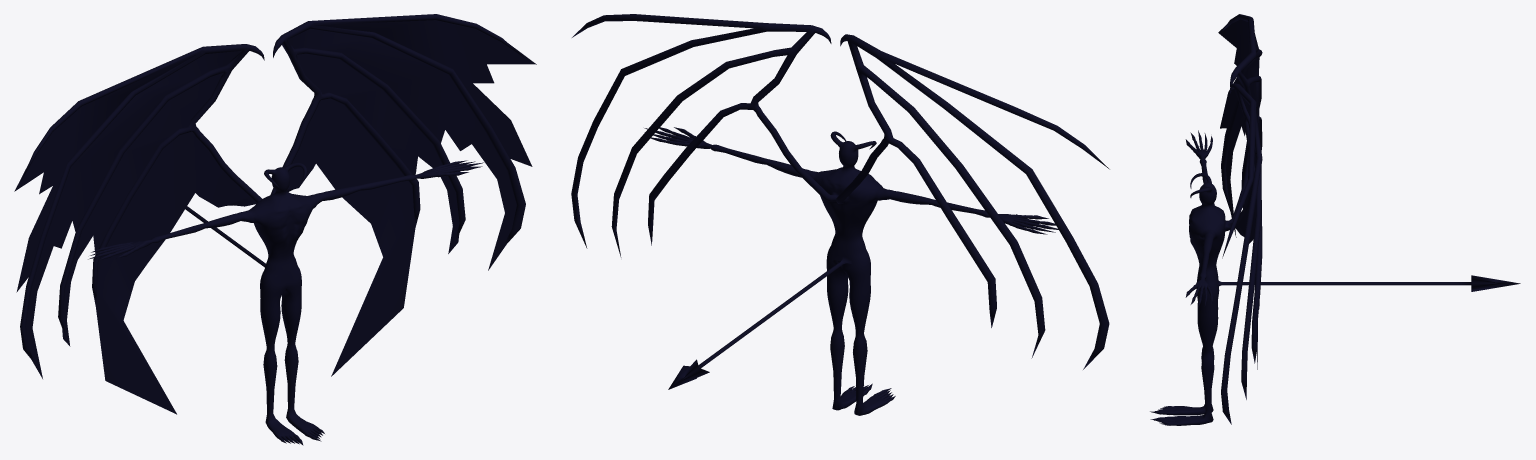
The model's file is boss_000000000.fbx.
3 views of the same model, side by side, from view 1: azimuth 30°, elevation 25°; view 2: azimuth 150°, elevation 25°; view 3: azimuth 270°, elevation 25° (orthographic). The views are drawn at different scales.
Visible parts, largest first — view 1: body; view 2: body; view 3: body.
Boxes of the visible parts, bbox=[...] form: body: bbox=[14, 14, 536, 445]; body: bbox=[571, 14, 1109, 415]; body: bbox=[1150, 14, 1520, 425].
Bounding box in the file's own units: 250 × 170 × 167.
